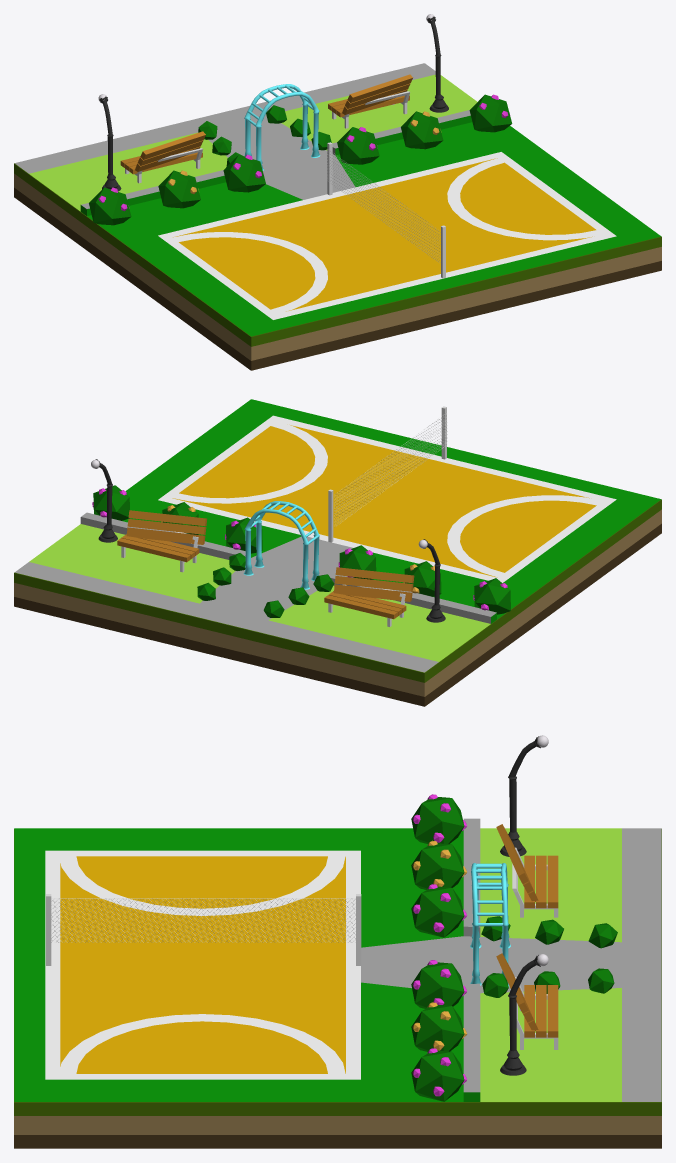
File: Park2.fbx
The picture shows the model from 3 angles, top to bottom: view 1: azimuth 30°, elevation 25°; view 2: azimuth 150°, elevation 25°; view 3: azimuth 270°, elevation 25°; orthographic projection. The views are drawn at different scales.
Visible parts, largest first — view 1: Plane.121, park ground.002, Circle.045, Cylinder.070, Plane.124, Cylinder.071, Cube.041, Cube.197, flower bush.042, flower bush.046, flower bush.047, flower bush.043 (+4 smaller); view 2: Plane.121, park ground.002, Cube.041, Cube.197, Circle.045, Plane.124, Cylinder.070, Cylinder.071, Cube.040, Cube.196, flower bush.047, flower bush.042 (+5 smaller); view 3: Plane.121, park ground.002, Plane.124, Cylinder.070, Cylinder.071, Circle.045, flower bush.045, flower bush.042, flower bush.047, flower bush.043, flower bush.046, flower bush.044 (+6 smaller).
Boxes of the visible parts, x1,y1,x2,y2 form: Plane.121: (14,63,661,336); park ground.002: (14,163,661,370); Circle.045: (244,84,320,170); Cylinder.070: (447,157,604,240); Plane.124: (327,149,440,262); Cylinder.071: (171,232,327,314); Cube.041: (135,131,205,171); Cube.197: (342,74,412,114); flower bush.042: (469,94,512,132); flower bush.046: (158,170,200,208); flower bush.047: (89,187,131,225); flower bush.043: (401,111,443,149); Plane.121: (14,399,661,672); park ground.002: (14,499,661,706); Cube.041: (334,567,414,601); Cube.197: (126,510,207,544); Circle.045: (243,501,319,589); Plane.124: (334,413,447,526); Cylinder.070: (171,421,327,503); Cylinder.071: (447,495,604,577); Cube.040: (324,591,406,619); Cube.196: (117,534,199,562); flower bush.047: (474,578,510,614); flower bush.042: (93,485,129,520); Plane.121: (14,818,661,1101); park ground.002: (14,829,661,1148); Plane.124: (51,898,355,942); Cylinder.070: (59,1014,345,1074); Cylinder.071: (58,855,345,915); Circle.045: (470,863,510,986); flower bush.045: (411,886,464,937); flower bush.042: (411,1050,464,1101); flower bush.047: (411,797,464,843); flower bush.043: (411,1005,464,1051); flower bush.046: (411,843,464,889); flower bush.044: (411,962,464,1008).
Size of the model in its own units: 270 by 76.44 by 266.
